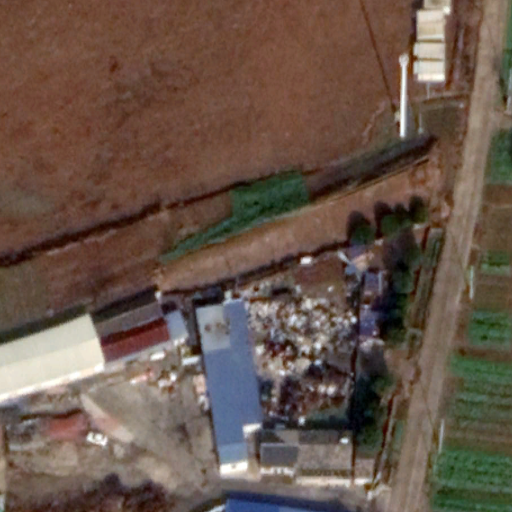msw: (247, 286, 357, 423)
